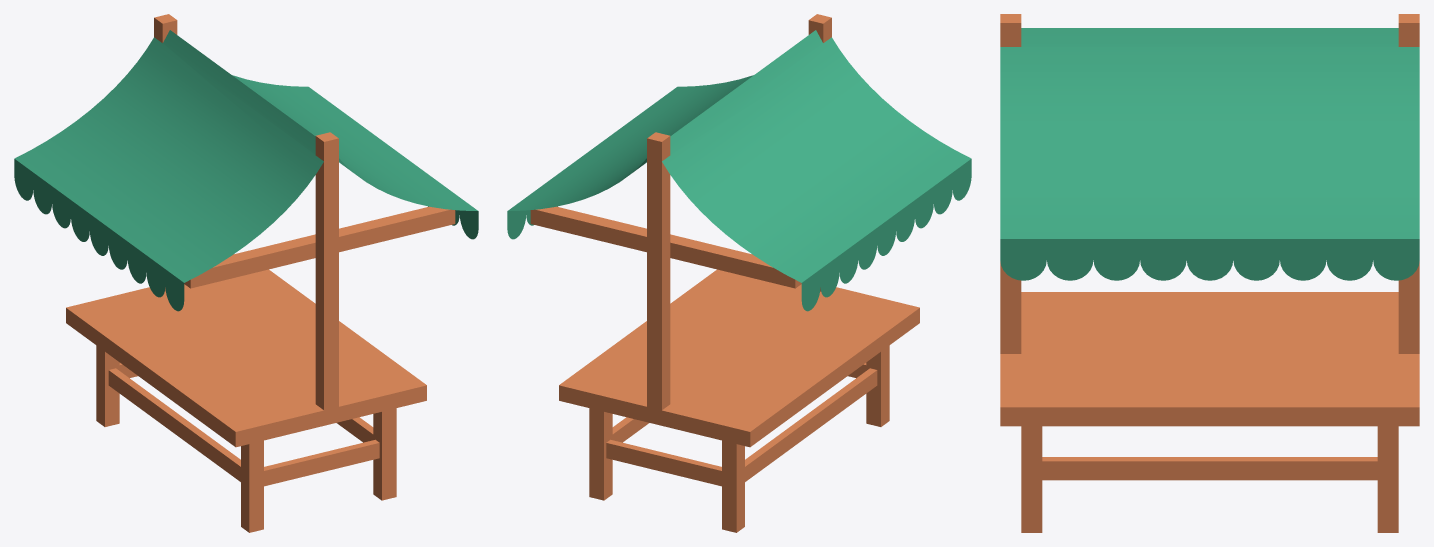
The model's file is stallGreen.obj.
The picture shows the model from 3 angles, left to right: view 1: azimuth 30°, elevation 25°; view 2: azimuth 150°, elevation 25°; view 3: azimuth 270°, elevation 25°; orthographic projection. The views are drawn at different scales.
Parts seen in each view (by area): view 1: stallGreen; view 2: stallGreen; view 3: stallGreen.
Part boxes in pixels (left/top/right/bottom): stallGreen: left=14, top=14, right=478, bottom=532; stallGreen: left=507, top=14, right=971, bottom=532; stallGreen: left=1000, top=14, right=1419, bottom=532.
Size of the model in its own units: 1 by 1.24 by 1.
